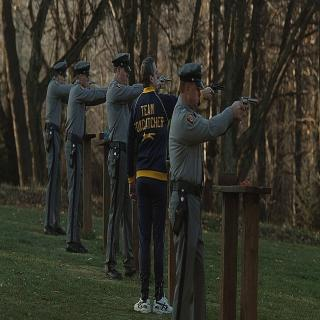gun: (233, 91, 258, 119), (203, 75, 225, 103), (157, 70, 174, 91)
